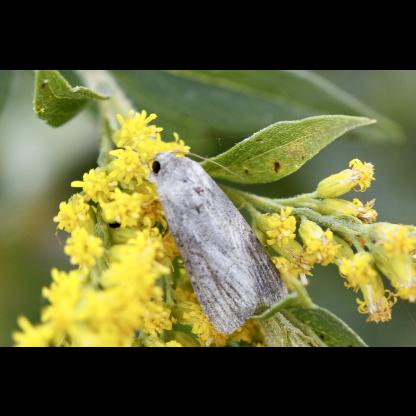Fall Armyworm Moth: (130, 138, 290, 336)
